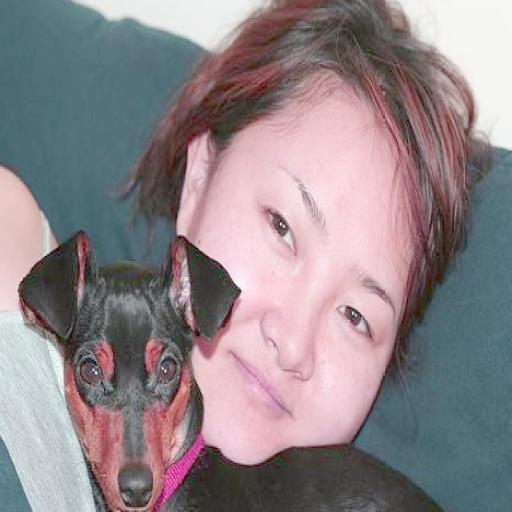dog_face: (27, 223, 232, 512)
